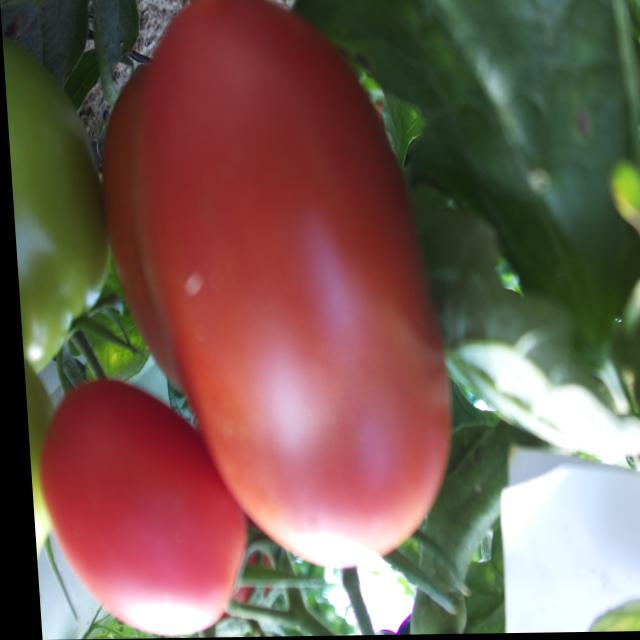kirmizi: (85, 0, 484, 599)
